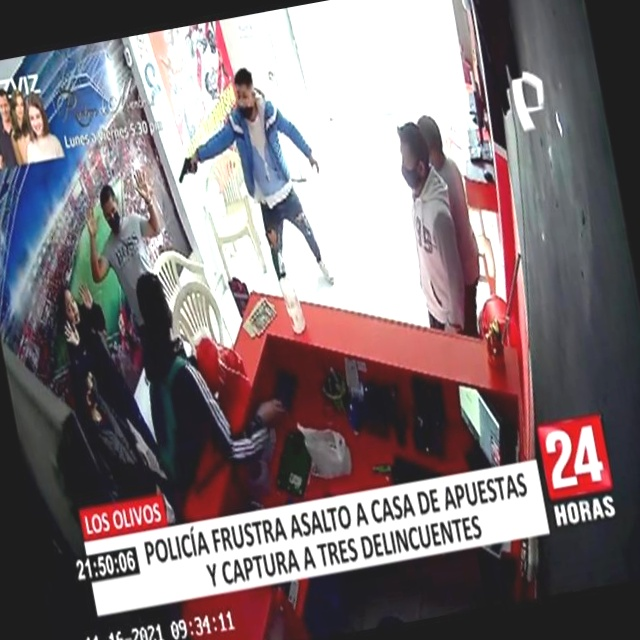gun: (170, 144, 206, 196)
